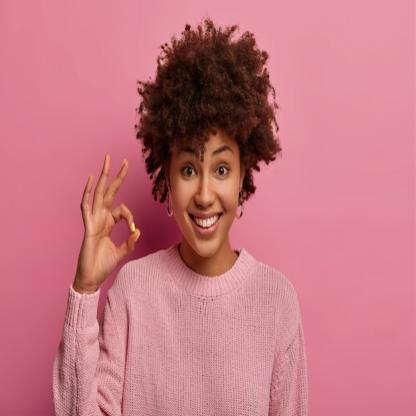ok: (76, 149, 144, 283)
